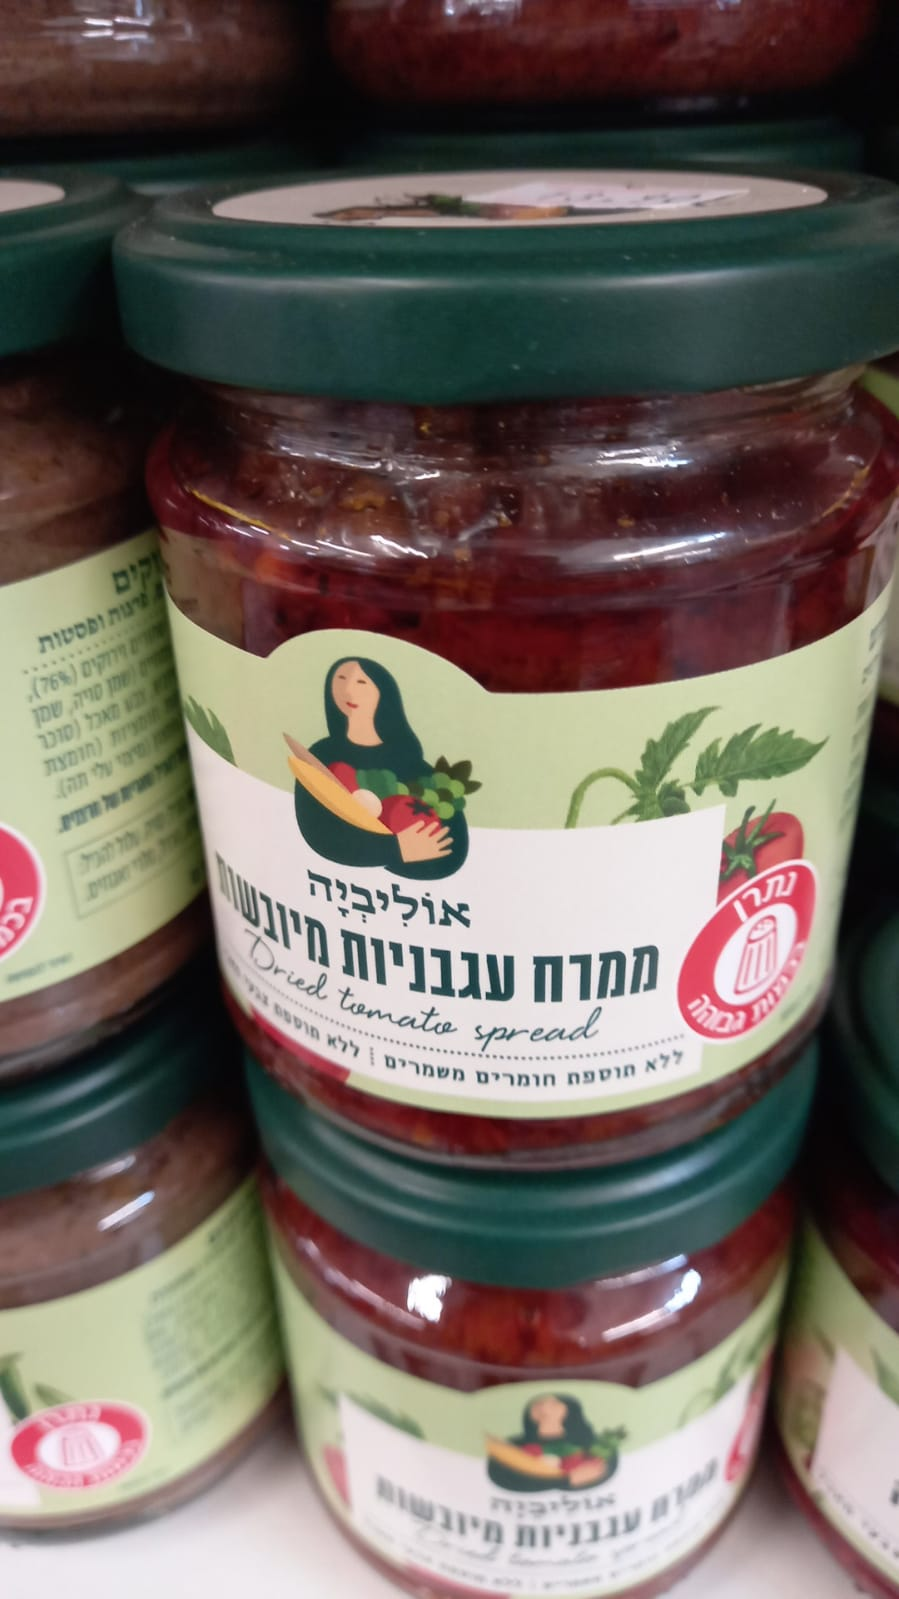salt: (676, 862, 825, 1040), (8, 1404, 148, 1494)
